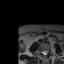CCS_normal: (44, 49, 45, 56)
LFS_normal: (47, 48, 49, 55)
LLS_normal: (45, 49, 47, 56)
RFS_normal: (40, 49, 42, 55)
RLS_normal: (42, 49, 44, 55)
